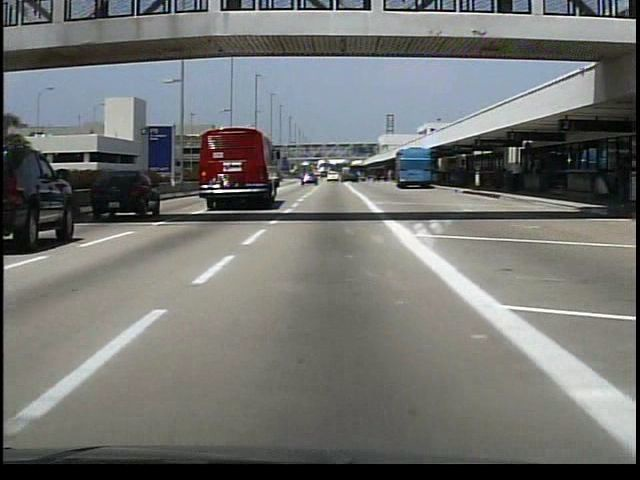person: (512, 159, 526, 192)
